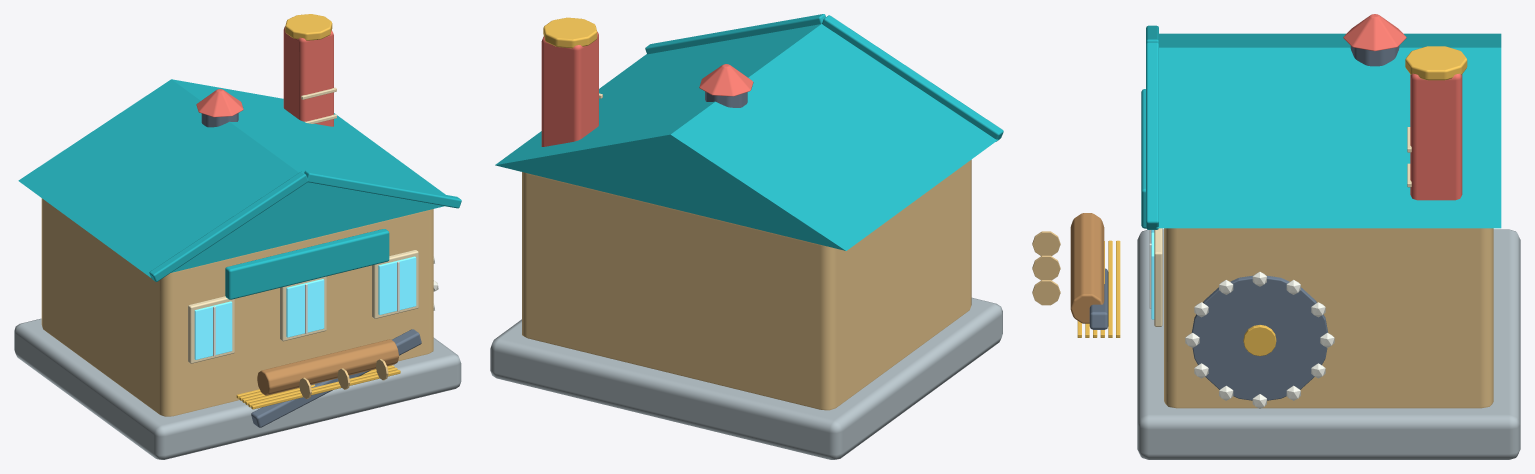
File: Sawmill.fbx
The picture shows the model from 3 angles, left to right: view 1: azimuth 30°, elevation 25°; view 2: azimuth 150°, elevation 25°; view 3: azimuth 270°, elevation 25°; orthographic projection. The views are drawn at different scales.
Parts seen in each view (by area): view 1: Bold pitched roof, Main painted walls, Raised stone foundation, Sign board, Mill chimney, Front roof fascia left, Front roof fascia right, Front window blue glass, Front window blue glass.001, Front window blue glass.002, Conveyor frame, Conveyor log 0 (+8 smaller); view 2: Main painted walls, Bold pitched roof, Raised stone foundation, Mill chimney, Front roof fascia left, Front roof fascia right, Chimney rim, Roof vent cap; view 3: Bold pitched roof, Main painted walls, Raised stone foundation, Circular saw blade, Mill chimney, Front roof fascia right, Chimney rim, Conveyor log 2, Roof vent cap, Conveyor log 1, Front window cream frame.002, Conveyor log 0 (+7 smaller).
Part boxes in pixels (x1,y1,x2,y2): Bold pitched roof: [18, 79, 445, 277]; Main painted walls: [41, 198, 433, 416]; Raised stone foundation: [14, 318, 461, 459]; Sign board: [225, 229, 389, 299]; Mill chimney: [283, 26, 333, 126]; Front roof fascia left: [149, 171, 307, 281]; Front roof fascia right: [304, 170, 461, 208]; Front window blue glass: [194, 301, 232, 359]; Front window blue glass.001: [286, 279, 324, 337]; Front window blue glass.002: [378, 256, 416, 314]; Conveyor frame: [251, 329, 421, 427]; Conveyor log 0: [257, 361, 321, 395]; Main painted walls: [522, 159, 971, 410]; Bold pitched roof: [495, 24, 998, 250]; Raised stone foundation: [490, 297, 1002, 459]; Mill chimney: [541, 32, 598, 146]; Front roof fascia left: [822, 15, 1003, 141]; Front roof fascia right: [645, 14, 825, 54]; Chimney rim: [543, 17, 597, 48]; Roof vent cap: [699, 64, 753, 96]; Bold pitched roof: [1156, 33, 1501, 228]; Main painted walls: [1164, 228, 1493, 408]; Raised stone foundation: [1137, 229, 1520, 459]; Circular saw blade: [1191, 275, 1327, 400]; Mill chimney: [1410, 73, 1462, 200]; Front roof fascia right: [1146, 42, 1158, 229]; Chimney rim: [1405, 46, 1467, 80]; Conveyor log 2: [1070, 262, 1104, 323]; Roof vent cap: [1343, 14, 1406, 50]; Conveyor log 1: [1070, 237, 1104, 277]; Front window cream frame.002: [1154, 228, 1162, 326]; Conveyor log 0: [1070, 213, 1104, 250].
Size of the model in its own units: 1208 by 1095 by 1274.
